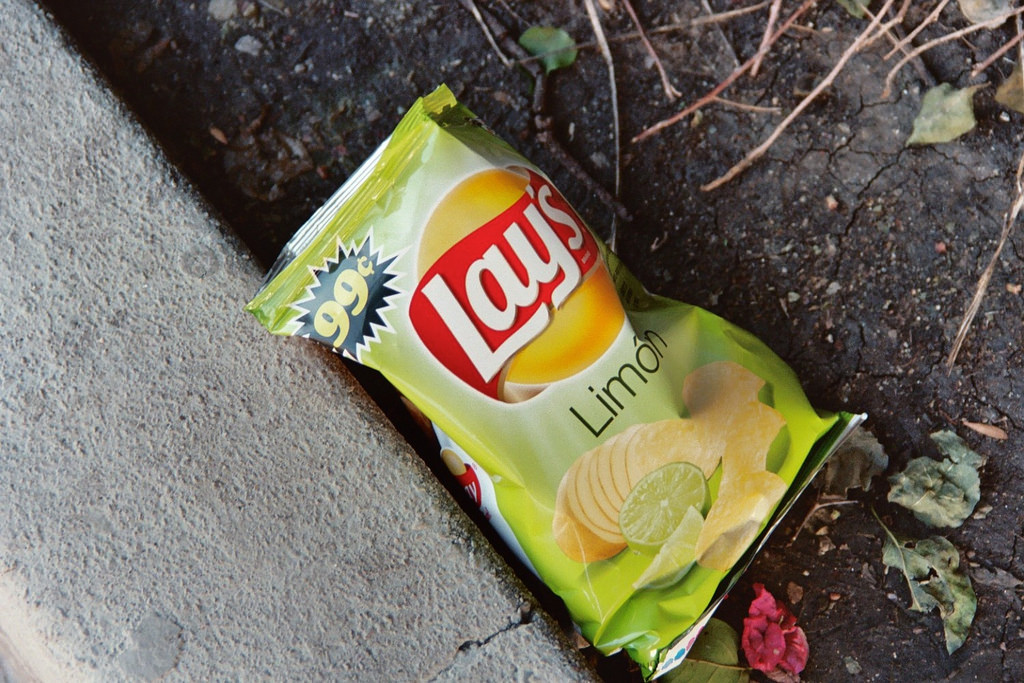plastic: (279, 59, 812, 666)
wrapper: (236, 67, 903, 667), (538, 332, 870, 652), (252, 74, 593, 345), (303, 232, 574, 572), (412, 209, 776, 409)
